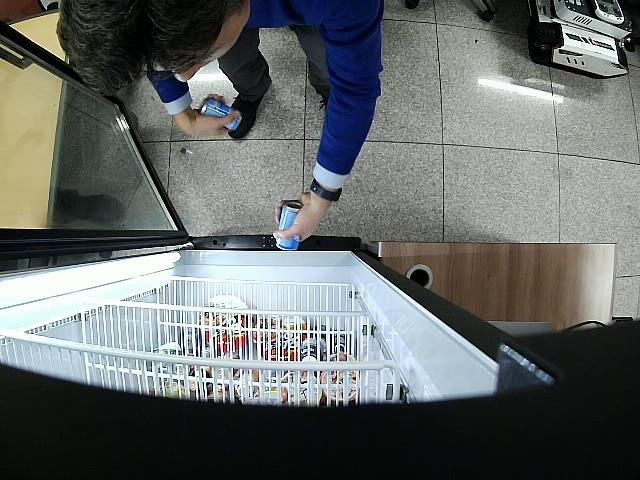00_hand: (272, 193, 328, 241), (177, 94, 239, 136)
15_letsbe: (200, 99, 241, 130), (276, 202, 302, 250)
